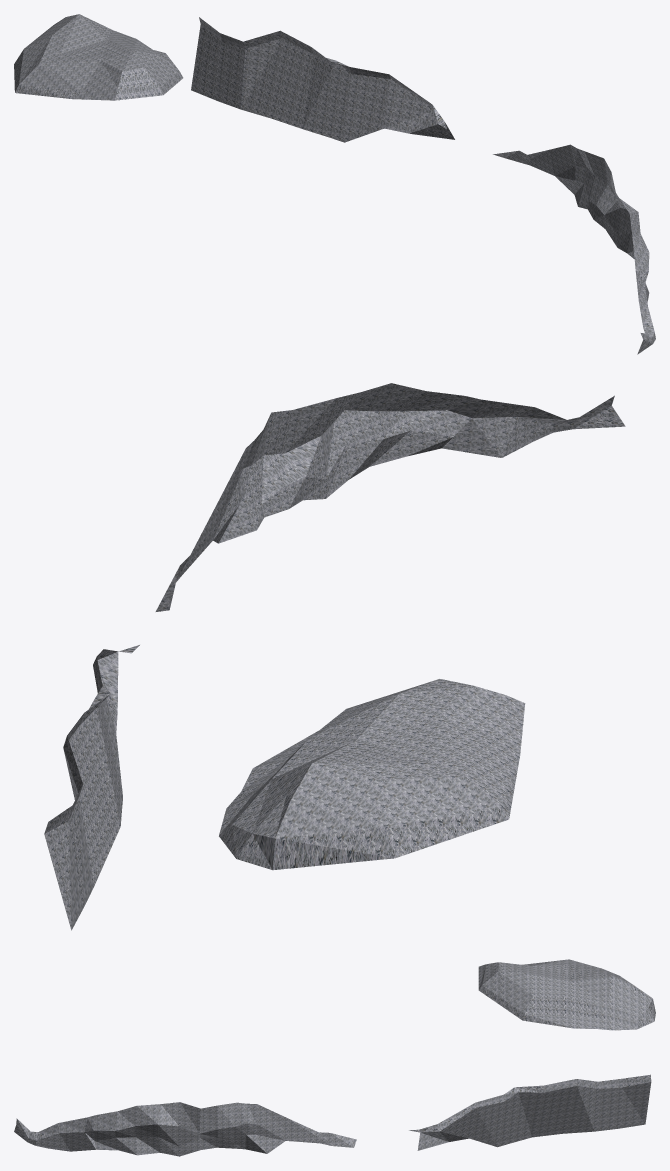
Rendered from xxxe.obj.
3 views of the same model, one above another, from view 1: azimuth 30°, elevation 25°; view 2: azimuth 150°, elevation 25°; view 3: azimuth 270°, elevation 25° (orthographic). The views are drawn at different scales.
Parts seen in each view (by area): view 1: xxxe; view 2: xxxe; view 3: xxxe.
Boxes of the visible parts, x1,y1,x2,y2 form: xxxe: [14, 14, 655, 354]; xxxe: [44, 383, 625, 930]; xxxe: [14, 959, 655, 1156].
Bounding box in the file's own units: 246 × 79.8 × 460.
Materials: 1 (1 with a texture image).
